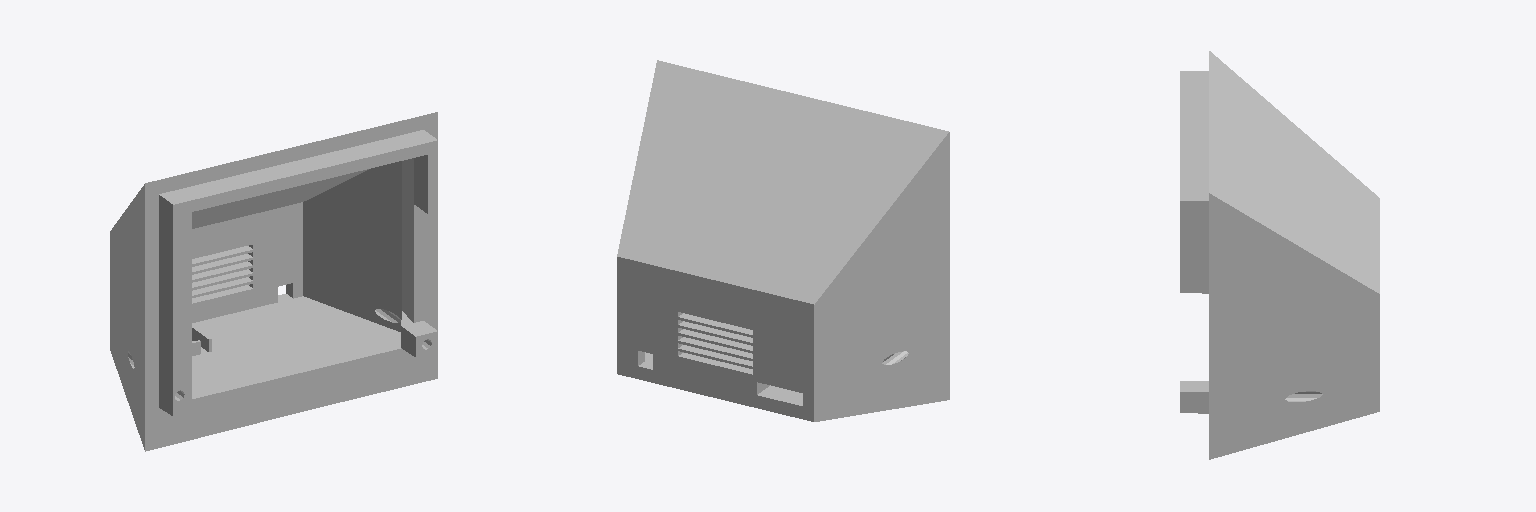
Rendered from TV_BACK2.obj.
The picture shows the model from 3 angles: view 1: azimuth 30°, elevation 25°; view 2: azimuth 150°, elevation 25°; view 3: azimuth 270°, elevation 25°; orthographic projection.
Parts seen in each view (by area): view 1: pasted__polySurface4 group; view 2: pasted__polySurface4 group; view 3: pasted__polySurface4 group.
Part boxes in pixels (x1,y1,x2,y2): pasted__polySurface4 group: (110, 112, 437, 451); pasted__polySurface4 group: (617, 60, 949, 421); pasted__polySurface4 group: (1180, 51, 1379, 459).
Size of the model in its own units: 117 by 103 by 69.